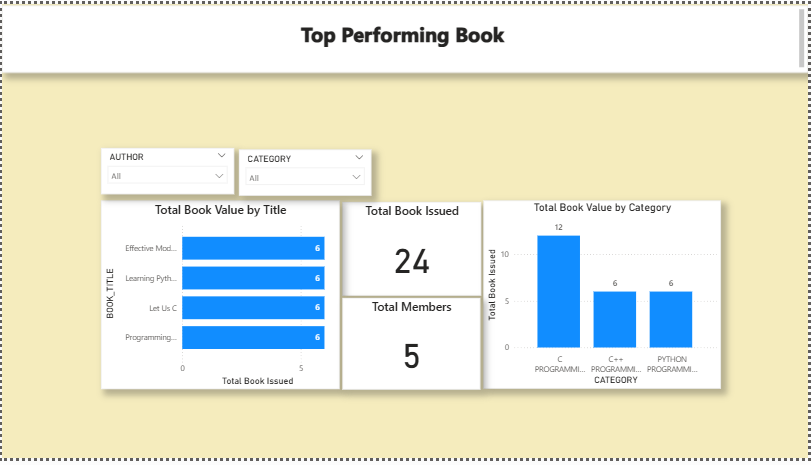

The dashboard page shown, as its layout file describes it:
{"tool":"powerbi","page":{"name":"Books","canvas":[1280,720],"ordinal":2},"visuals":[{"type":"textbox","box":[0,3.2,1279.4,106.3],"z":0},{"type":"card","title":"Total Book Issued","fields":{"Values":["Measure.Total Book Issued"]},"box":[540,313.3,220,148.3],"z":1000},{"type":"clusteredBarChart","title":"Total Book Value by Title","fields":{"Category":["Lms_Analysis.BOOK_TITLE"],"Y":["Measure.Total Book Issued"]},"box":[156.4,310.8,378.5,299.2],"z":2000},{"type":"clusteredColumnChart","title":"Total Book Value by Category","fields":{"Category":["Lms_Analysis.CATEGORY"],"Y":["Measure.Total Book Issued"]},"box":[765,311.7,376.7,298.3],"z":3000},{"type":"card","title":"Total Members","fields":{"Values":["Measure.Total Member"]},"box":[540,466.7,218.3,145],"z":6000},{"type":"slicer","fields":{"Values":["Lms_Analysis.AUTHOR"]},"box":[158.1,229.5,211,73],"z":7000},{"type":"slicer","fields":{"Values":["Lms_Analysis.CATEGORY"]},"box":[376.7,231.7,210,73.3],"z":8000}]}

Visuals, with their boxes in screenshot pixels (x1, y1, x2, y2), scaled from the page's 1280x720 canvas onto the 811x465 screenshot:
textbox: left=0, top=2, right=810, bottom=71
"Total Book Issued" card: left=342, top=202, right=482, bottom=298
"Total Book Value by Title" clusteredBarChart: left=99, top=201, right=339, bottom=394
"Total Book Value by Category" clusteredColumnChart: left=485, top=201, right=723, bottom=394
"Total Members" card: left=342, top=301, right=480, bottom=395
slicer - Lms_Analysis.AUTHOR: left=100, top=148, right=234, bottom=195
slicer - Lms_Analysis.CATEGORY: left=239, top=150, right=372, bottom=197
